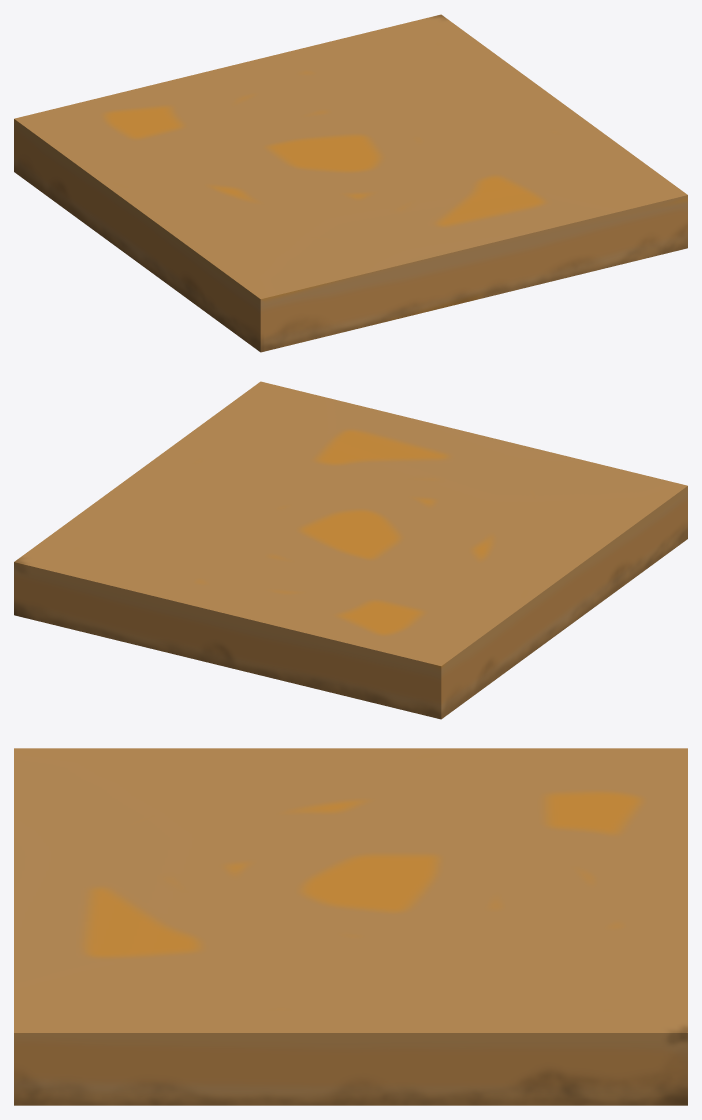
Rendered from Board.fbx.
3 views of the same model, one above another, from view 1: azimuth 30°, elevation 25°; view 2: azimuth 150°, elevation 25°; view 3: azimuth 270°, elevation 25° (orthographic). The views are drawn at different scales.
Parts seen in each view (by area): view 1: Board; view 2: Board; view 3: Board.
Boxes of the visible parts, box(x1,y1,x2,y2) form: Board: box(14, 14, 687, 352); Board: box(14, 381, 687, 719); Board: box(14, 748, 687, 1105).
Bounding box in the file's own units: 1680 × 200 × 1680.
